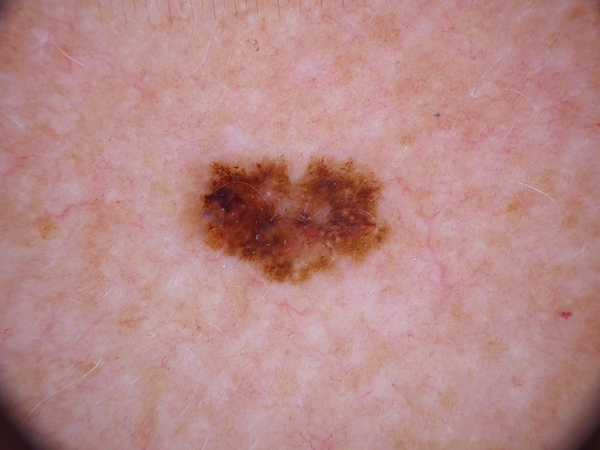Detected Lesion: (196, 150, 399, 288)
